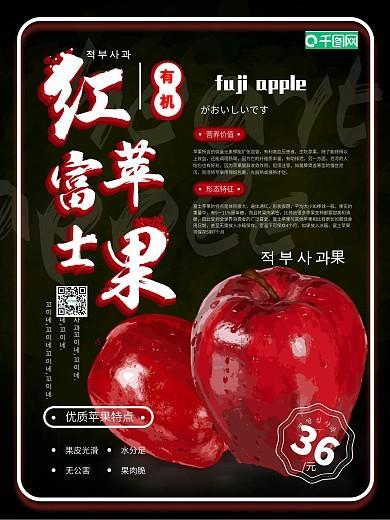apple: (190, 267, 367, 475)
